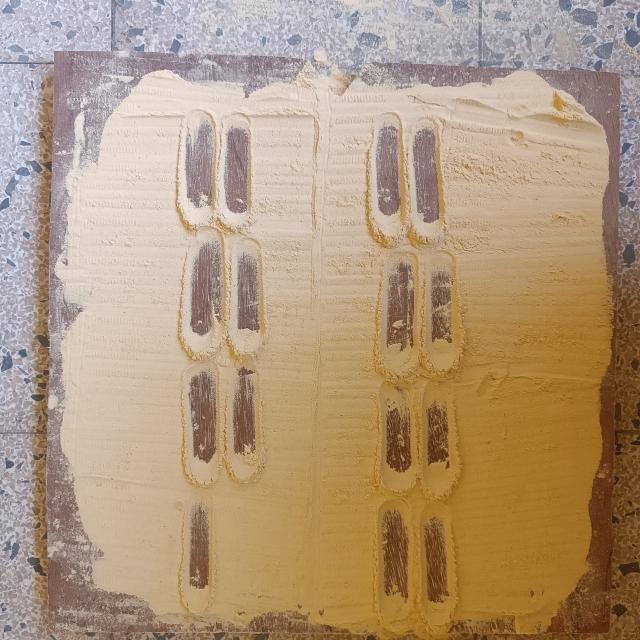double: (371, 492, 466, 632), (179, 231, 273, 367), (364, 108, 452, 248), (168, 102, 262, 230), (376, 248, 468, 378), (178, 364, 271, 490), (373, 371, 462, 498)
single: (175, 490, 220, 620)
